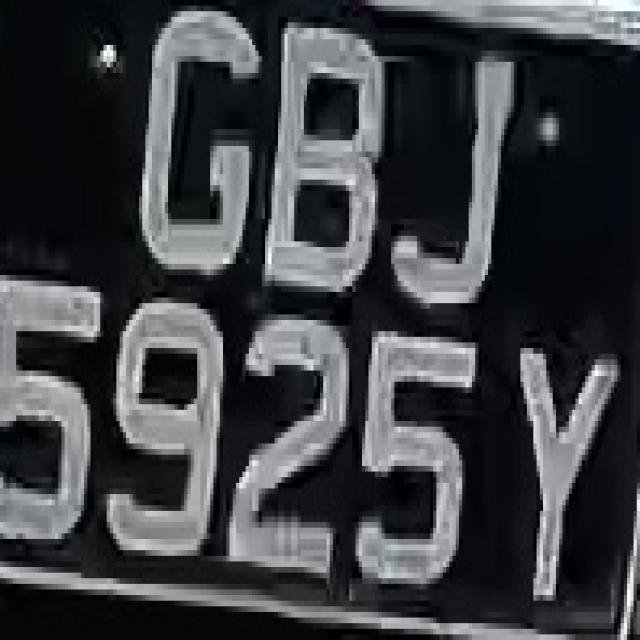2: (230, 286, 349, 601)
5: (356, 286, 478, 584), (6, 236, 97, 578)
9: (103, 258, 223, 590)
B: (265, 28, 398, 309)
G: (130, 6, 272, 275)
J: (397, 28, 527, 320)
Y: (504, 320, 611, 606)
